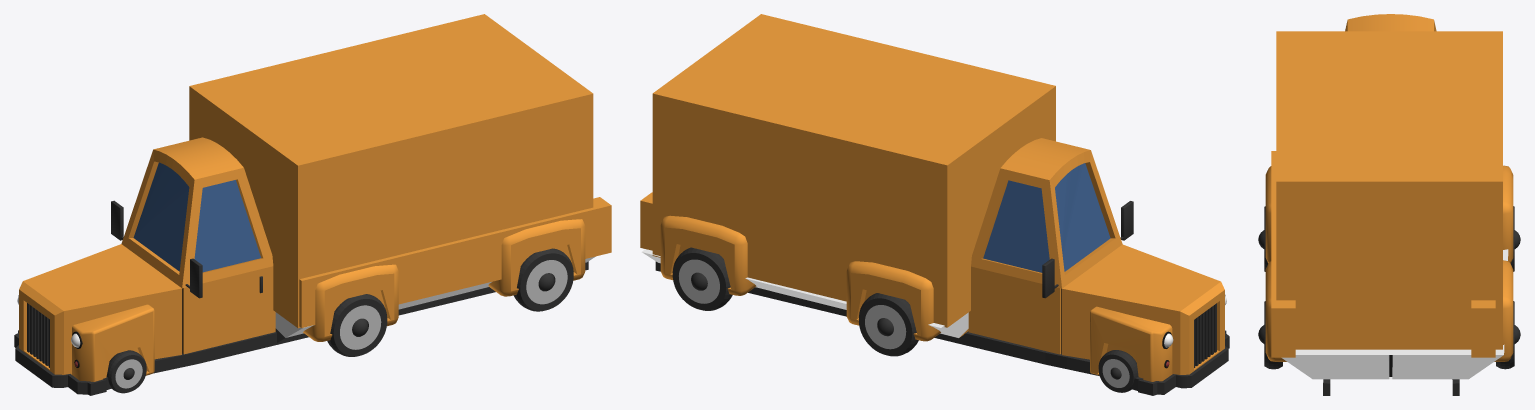
The model's file is FoodTruckClosed.fbx.
3 renders of one model, left to right at view 1: azimuth 30°, elevation 25°; view 2: azimuth 150°, elevation 25°; view 3: azimuth 270°, elevation 25°, orthographic. The views are drawn at different scales.
Visible parts, largest first — view 1: Truck_1359; view 2: Truck_1359; view 3: Truck_1359.
Part boxes in pixels (left/top/right/bottom): Truck_1359: left=14, top=14, right=611, bottom=395; Truck_1359: left=640, top=14, right=1229, bottom=395; Truck_1359: left=1258, top=14, right=1520, bottom=395.
Size of the model in its own units: 11569 by 4329 by 4830.
